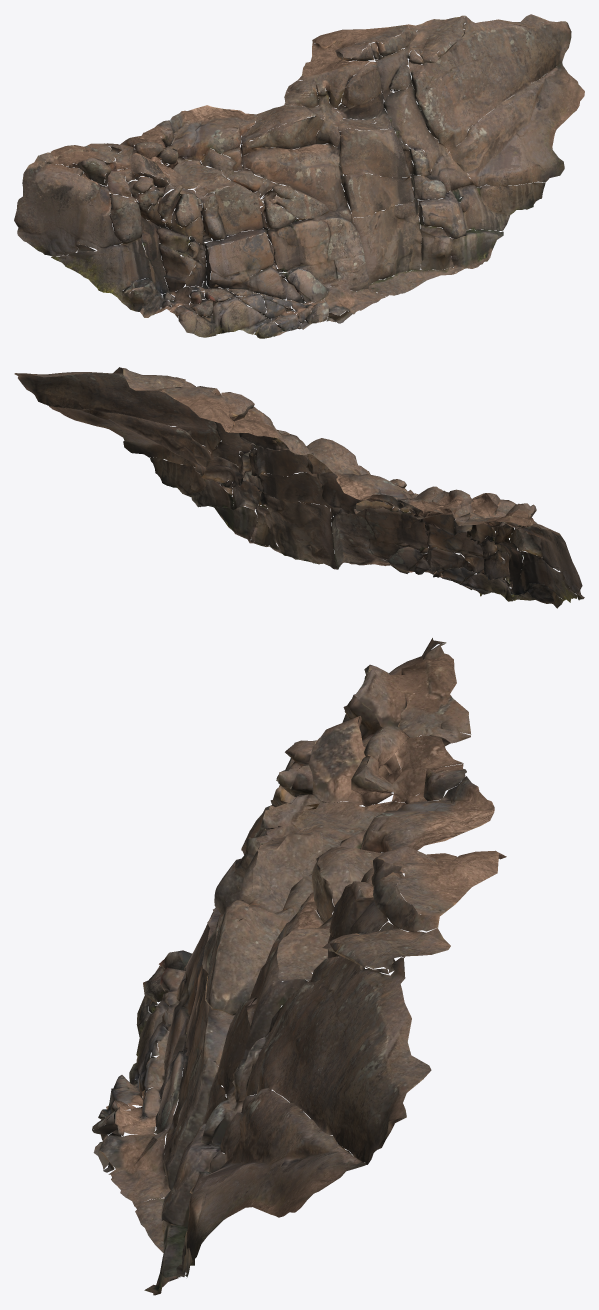
File: namaqualand_cliff_02.glb
3 views of the same model, one above another, from view 1: azimuth 30°, elevation 25°; view 2: azimuth 150°, elevation 25°; view 3: azimuth 270°, elevation 25° (orthographic). The views are drawn at different scales.
Visible parts, largest first — view 1: drone_rock_02_LOD0; view 2: drone_rock_02_LOD0; view 3: drone_rock_02_LOD0.
Part boxes in pixels (x1,y1,x2,y2): drone_rock_02_LOD0: (14,14,584,338); drone_rock_02_LOD0: (14,367,584,608); drone_rock_02_LOD0: (92,638,506,1295).
Size of the model in its own units: 20.21 by 7.2 by 6.61.
1 material, 1 textured.
